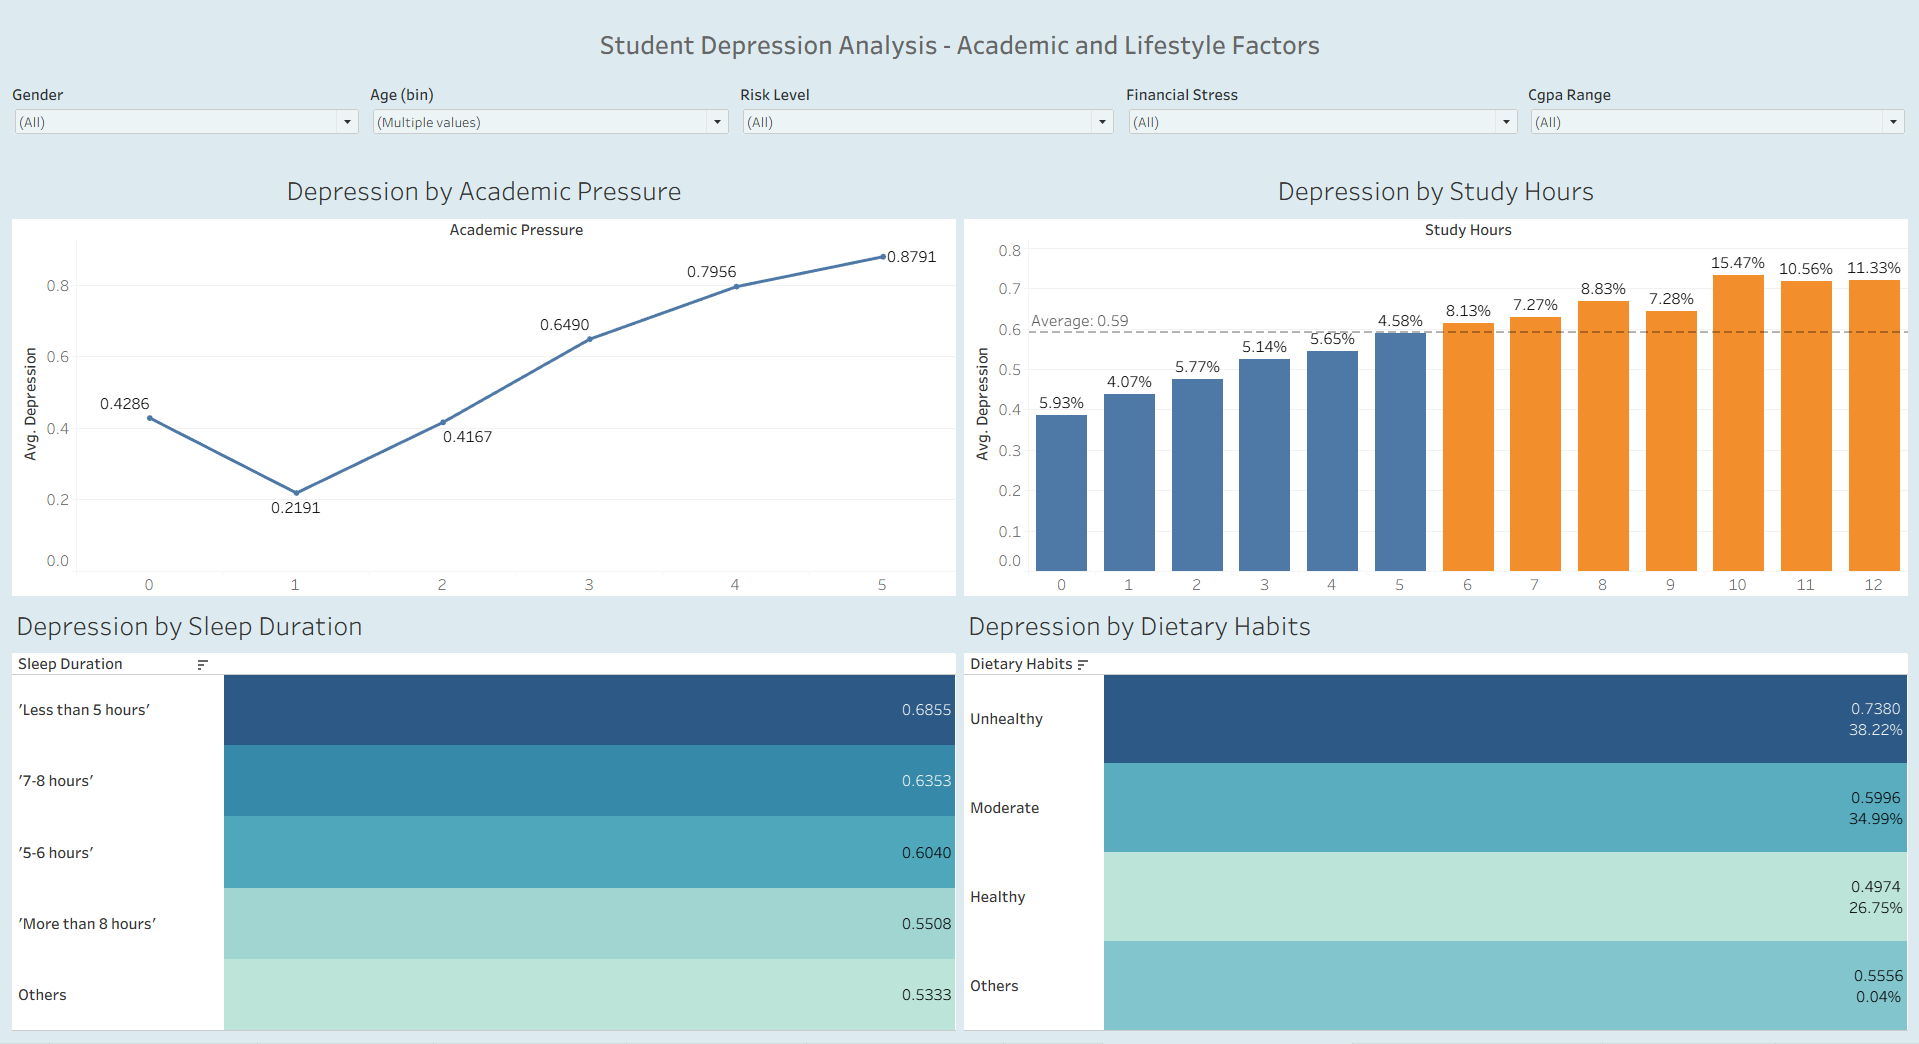

This screenshot's page, from the dashboard's own definition file:
{"tool":"tableau","page":{"name":"Academic and Lifestyle Factors","canvas":[1000,1000],"units":"permille","ordinal":0},"visuals":[{"type":"text","box":[4.8,9.4,990.3,68.6]},{"type":"filter","title":"Depression by Academic Pressure","param":"[federated.06oz1im1gha7c81ckzce51y9n668].[none:gender:nk]","box":[4.8,78,186.4,81.2]},{"type":"filter","title":"Depression by Academic Pressure","param":"[federated.06oz1im1gha7c81ckzce51y9n668].[none:Age (bin):ok]","box":[191.2,78,192.5,81.2]},{"type":"filter","title":"Depression by Academic Pressure","param":"[federated.06oz1im1gha7c81ckzce51y9n668].[none:risk_level:nk]","box":[383.7,78,200.4,71.7]},{"type":"filter","title":"Depression by Academic Pressure","param":"[federated.06oz1im1gha7c81ckzce51y9n668].[none:financial_stress:ok]","box":[584.1,78,209.5,71.7]},{"type":"filter","title":"Depression by Academic Pressure","param":"[federated.06oz1im1gha7c81ckzce51y9n668].[none:cgpa_range:nk]","box":[793.6,78,201.6,81.2]},{"type":"worksheet","title":"Depression by Academic Pressure","mark":"Line","rows":["depression"],"cols":["academic_pressure"],"box":[4.8,159.2,495.2,415.5]},{"type":"worksheet","title":"Depression by Study Hours","mark":"Automatic","rows":["depression"],"cols":["study_hours"],"box":[500,159.2,495.2,415.5]},{"type":"worksheet","title":"Depression by Sleep Duration","mark":"Square","rows":["sleep_duration"],"box":[4.8,574.8,495.2,415.8]},{"type":"worksheet","title":"Depression by Dietary Habits","mark":"Square","rows":["dietary_habits"],"box":[500,574.8,495.2,415.8]}]}

Visuals, with their boxes on the dashboard's canvas, which has no fixed pixel size, in thousandths of its width and height (x1, y1, x2, y2). These are canvas units, not pixel positions in the 1919x1044 screenshot, which may show the page scaled, cropped or inside an application window:
text: (5,9,995,78)
"Depression by Academic Pressure" filter: (5,78,191,159)
"Depression by Academic Pressure" filter: (191,78,384,159)
"Depression by Academic Pressure" filter: (384,78,584,150)
"Depression by Academic Pressure" filter: (584,78,794,150)
"Depression by Academic Pressure" filter: (794,78,995,159)
"Depression by Academic Pressure" worksheet (Line marks): (5,159,500,575)
"Depression by Study Hours" worksheet: (500,159,995,575)
"Depression by Sleep Duration" worksheet (Square marks): (5,575,500,991)
"Depression by Dietary Habits" worksheet (Square marks): (500,575,995,991)
